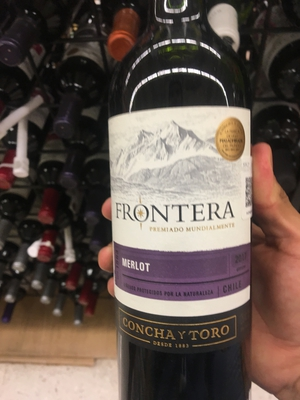frontera merlot: (92, 8, 272, 400)
